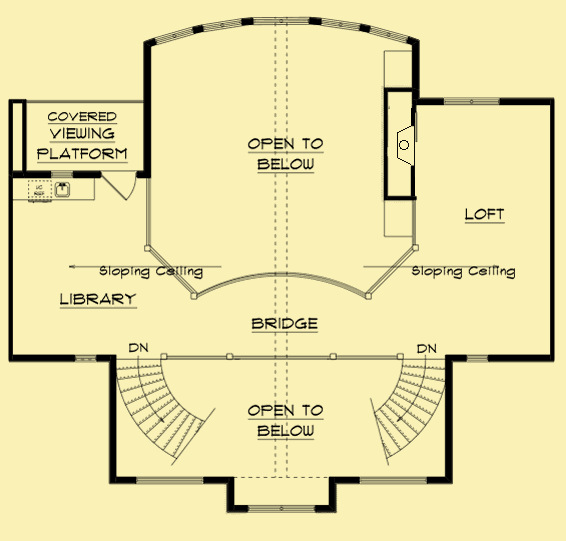door: (98, 169, 136, 204)
stairs: (114, 355, 207, 460), (372, 355, 445, 461)
window: (152, 14, 411, 47), (247, 501, 317, 515), (354, 474, 428, 484), (131, 477, 204, 487), (439, 95, 502, 106)
